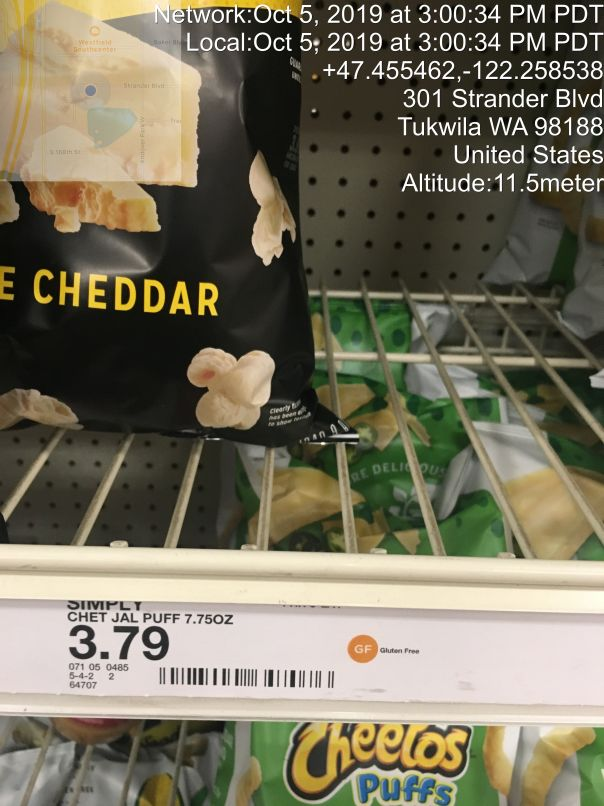Label: (65, 590, 406, 710)
Location: (392, 82, 604, 170)
Simply: (18, 11, 360, 480)
Time: (151, 2, 604, 54)
Void: (325, 95, 604, 516)
